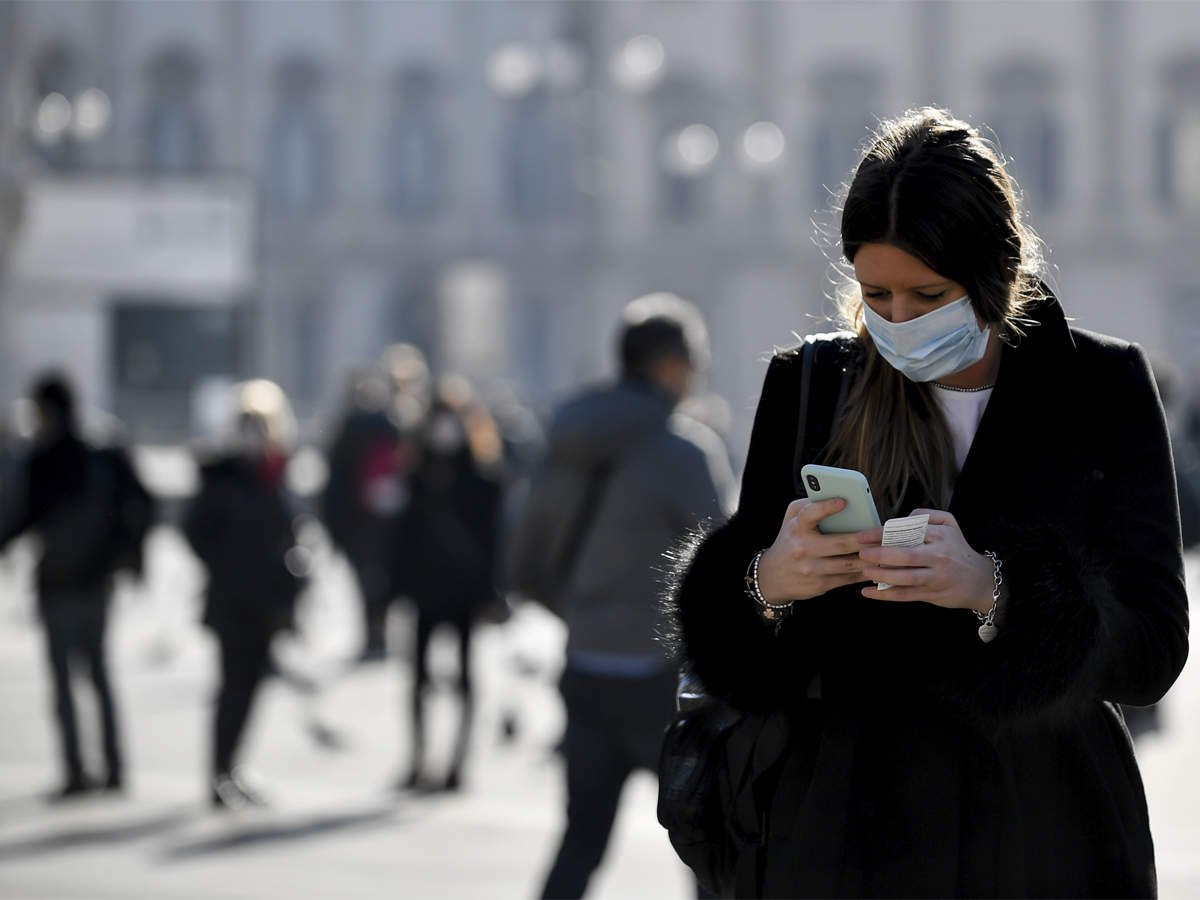mask: (815, 97, 1058, 399)
